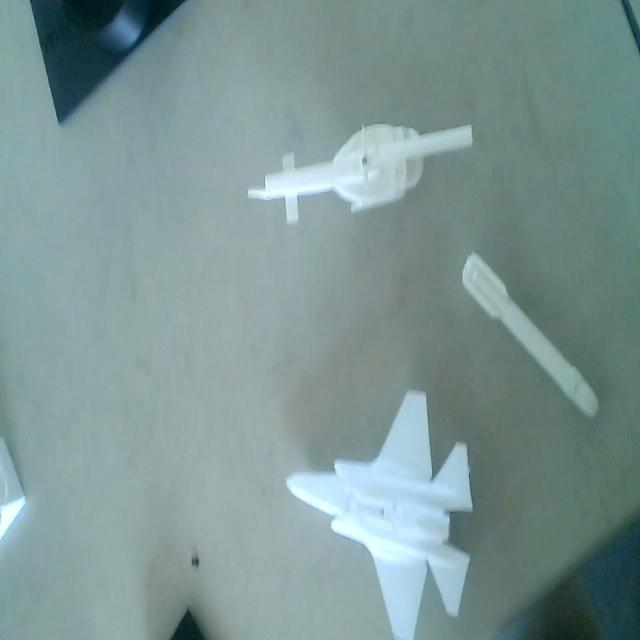Helicopter: (244, 119, 476, 234)
Jet: (279, 382, 471, 636)
Rocket: (460, 248, 603, 426)
